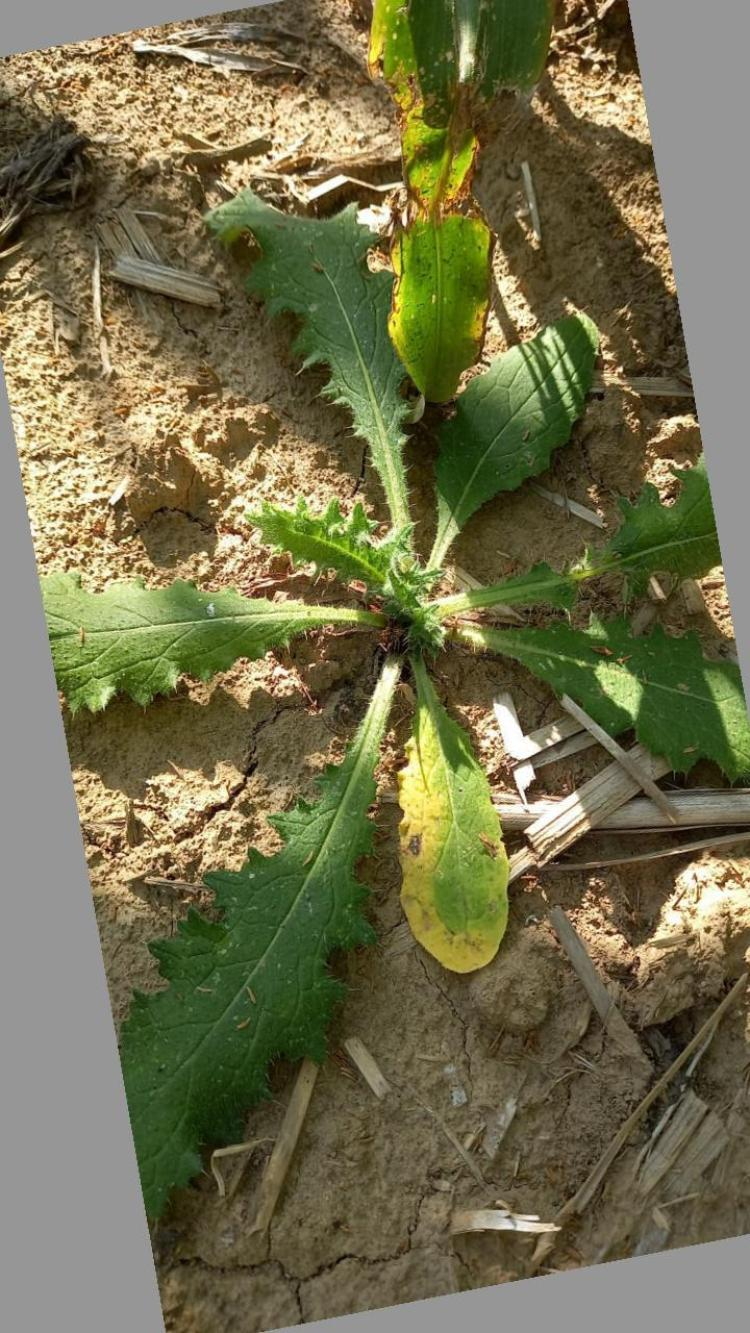osot: (0, 183, 750, 1229)
